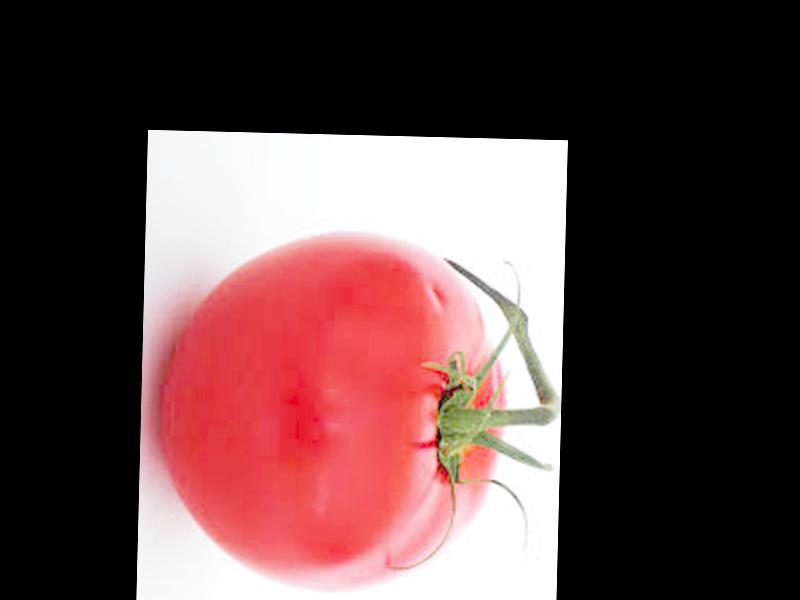Tomato: (153, 230, 507, 599)
